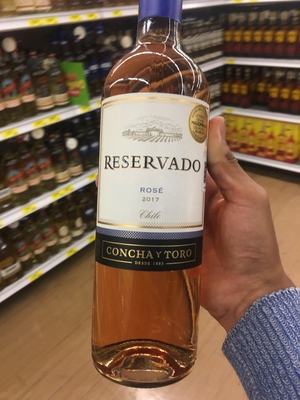reservado rose: (95, 3, 222, 400)
